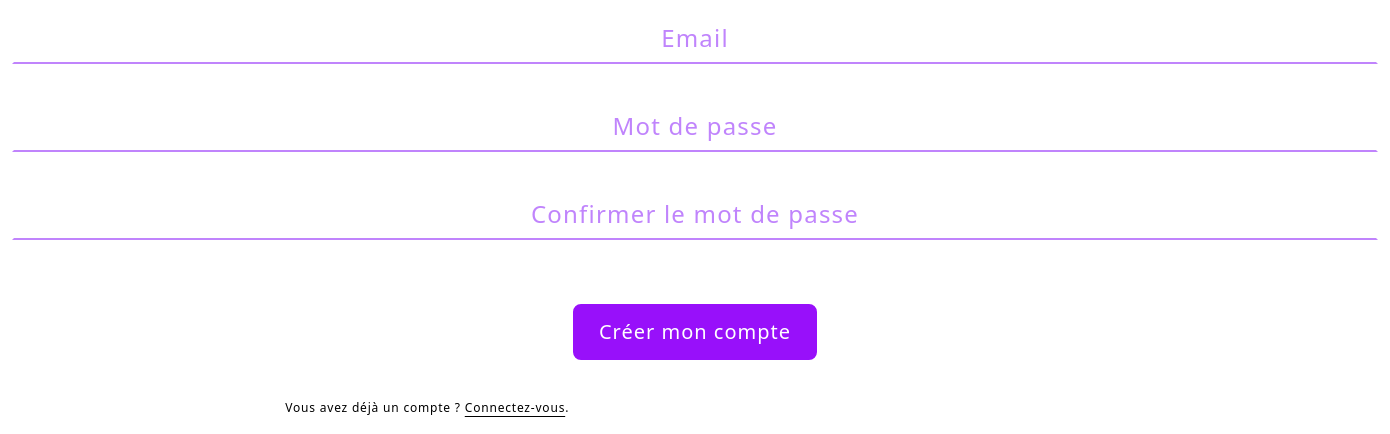
Test: SignupForm › remonte les erreurs de champ DRF (ex : email déjà utilisé)
In the field with placeholder "Email": (695, 38) left=12, top=12, right=1378, bottom=64, type "newbie@example.fr"
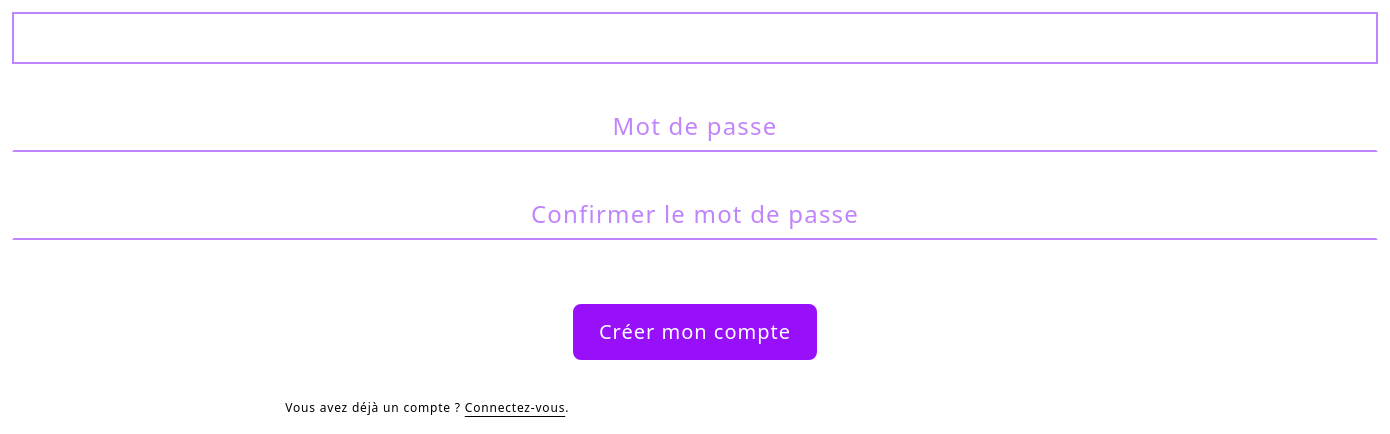
In the password field with placeholder "Mot de passe": (695, 126) left=12, top=100, right=1378, bottom=152, type "password123"
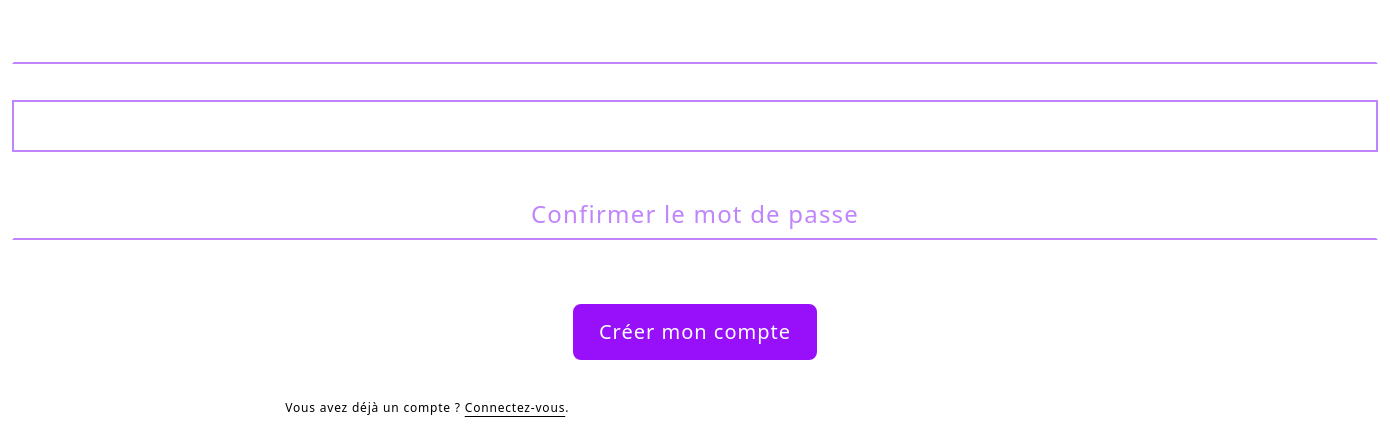
In the password field with placeholder "Confirmer le mot de passe": (695, 214) left=12, top=188, right=1378, bottom=240, type "password123"
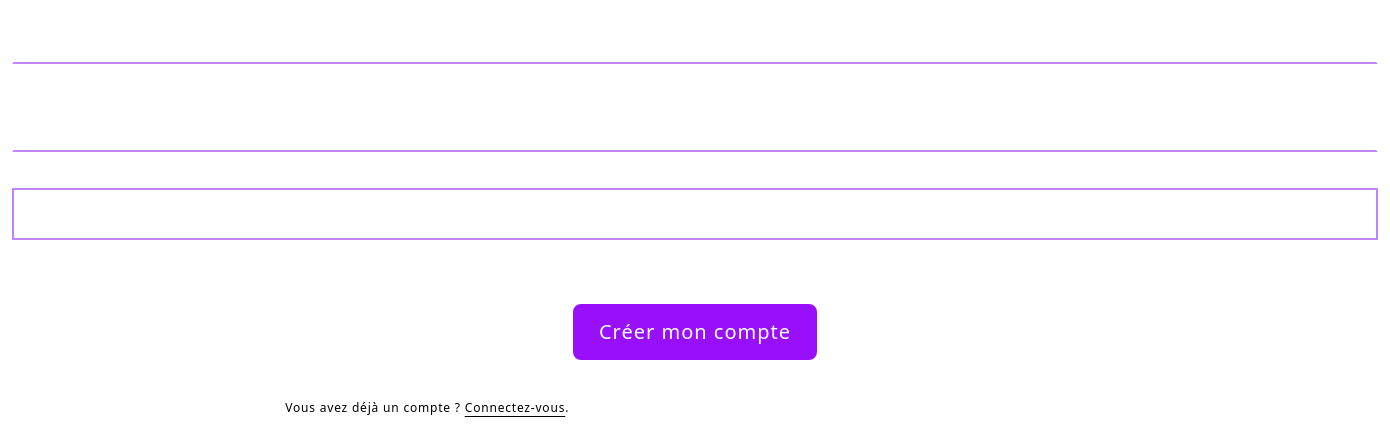
Click the button "Créer mon compte": (695, 332) left=573, top=304, right=817, bottom=360
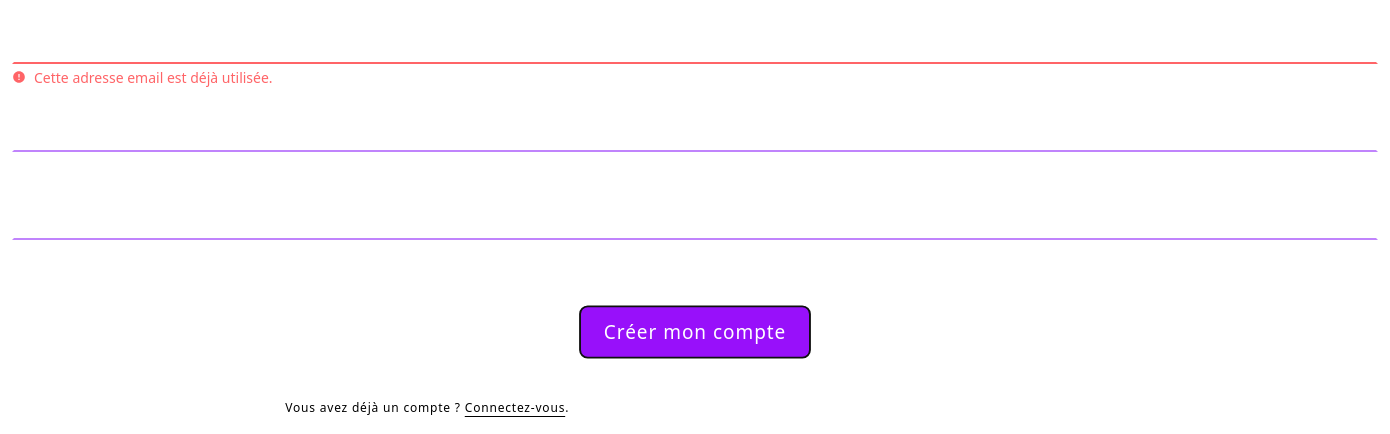
Expected: the text "Cette adresse email est déjà utilisée." is shown, left=34, top=68, right=273, bottom=88
